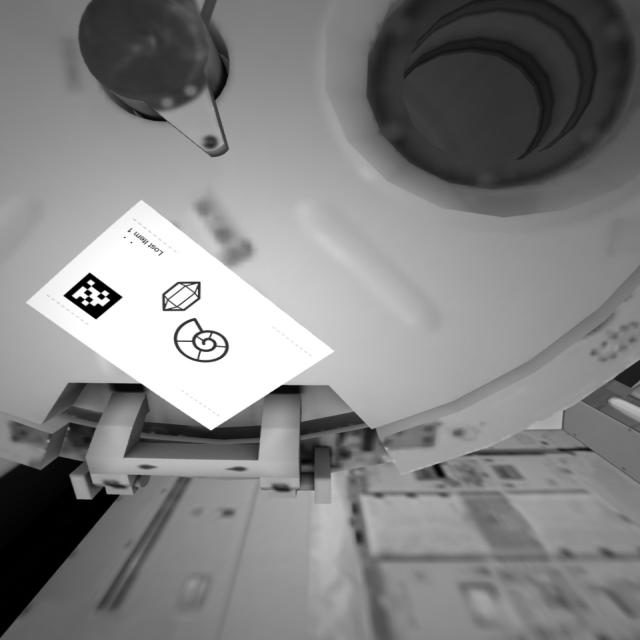crystal: (159, 277, 208, 317)
fossil: (164, 317, 245, 369)
